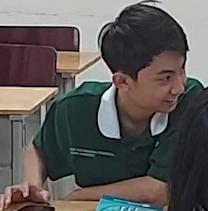Turning_Around: (0, 0, 208, 206)
